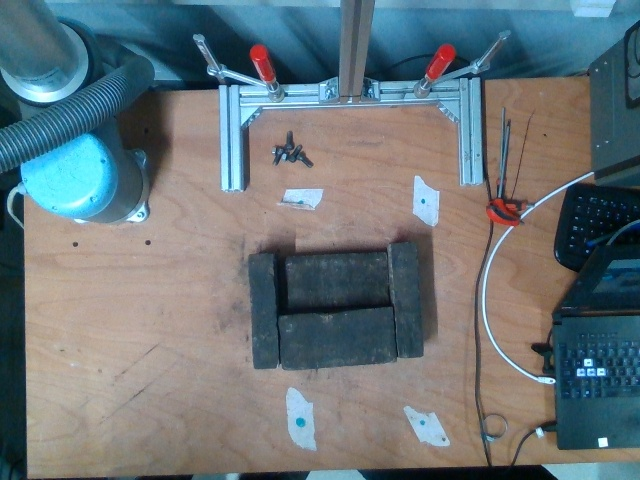brick: (282, 311, 393, 368), (286, 255, 385, 311)
brick-side: (390, 245, 422, 355), (247, 257, 276, 368)
